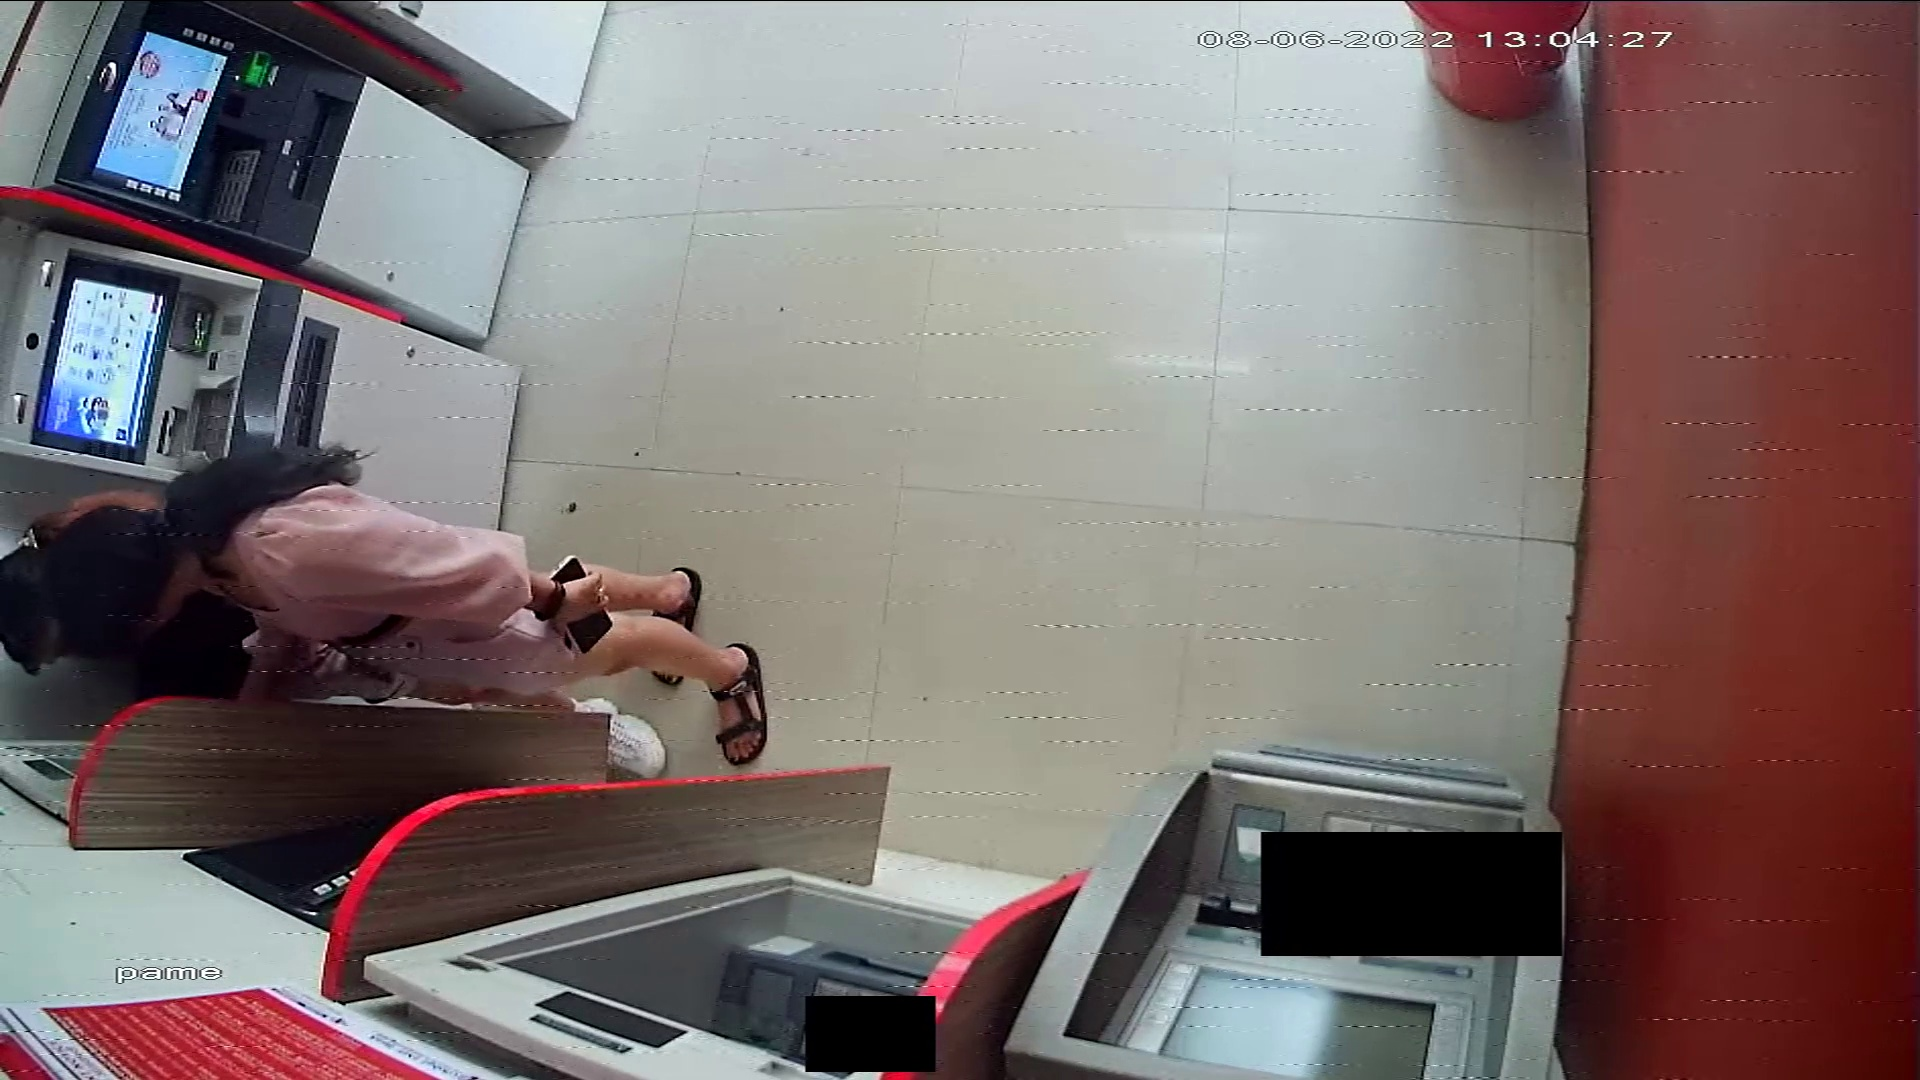person: (1, 446, 778, 765)
phone: (544, 551, 621, 655)
